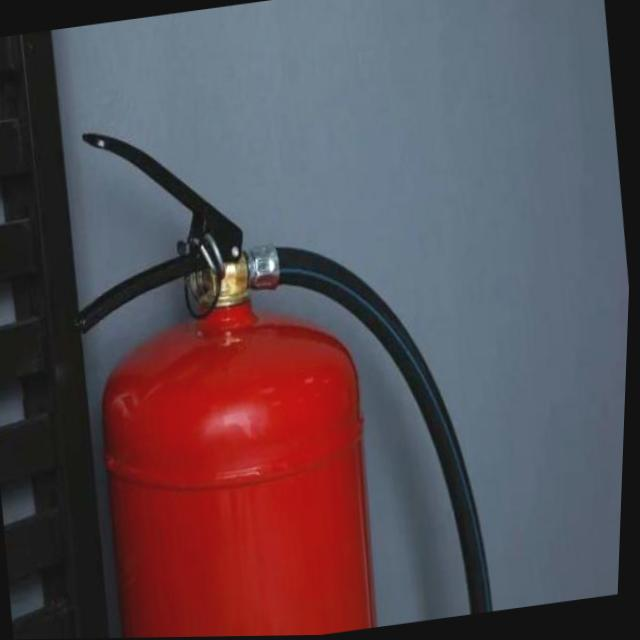FireExtinguisher: (34, 71, 517, 639)
